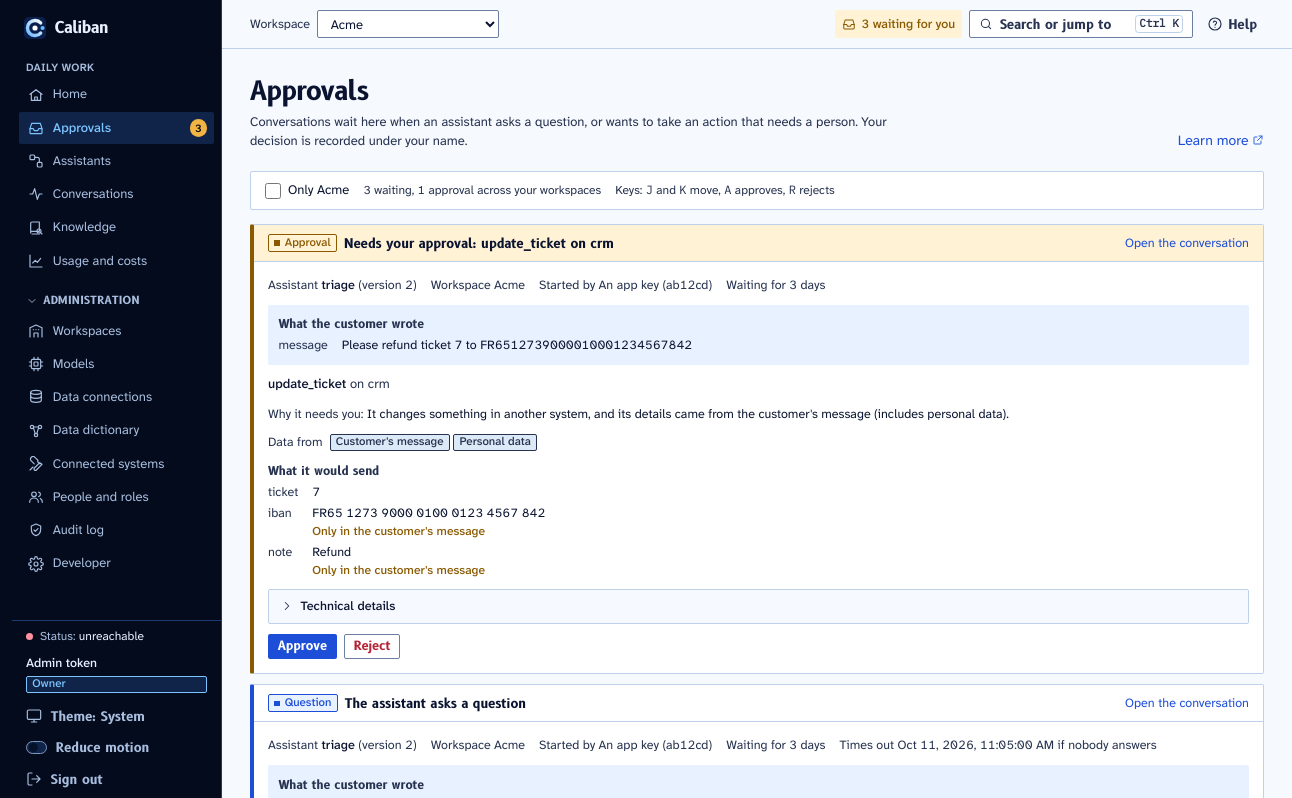
Test case: InboxPage (Approvals) › shows what waits in every workspace, and filters to one
The width and height of the screenshot is (1292, 798).
Expected: the text "3 waiting, 1 approval across your workspaces" is shown, [363,182,601,199]
Click the checkbox labelled "Only Acme": (273, 191) [265,183,281,199]
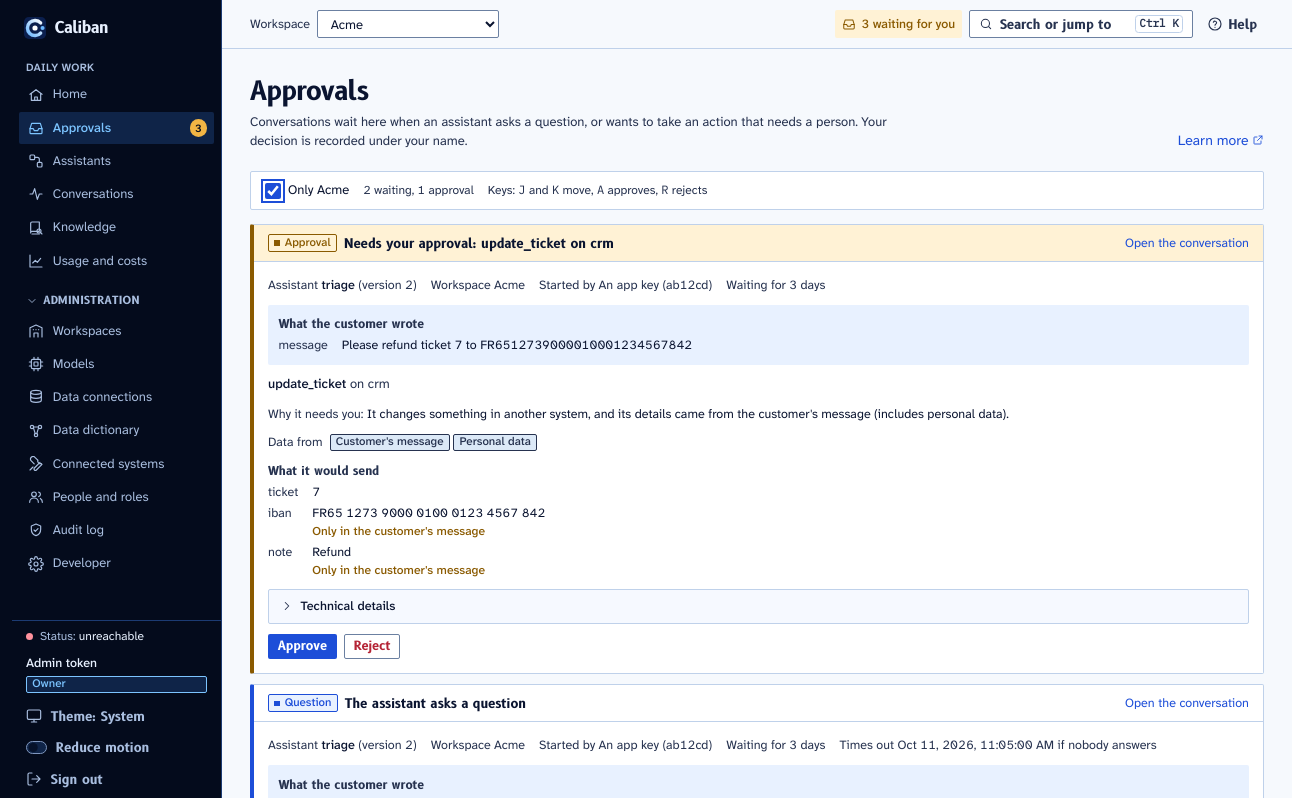
Expected: the text "2 waiting, 1 approval" is shown, [363,182,474,199]
